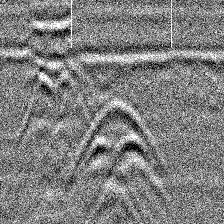Utility: (80, 98, 155, 189), (28, 55, 87, 113)
